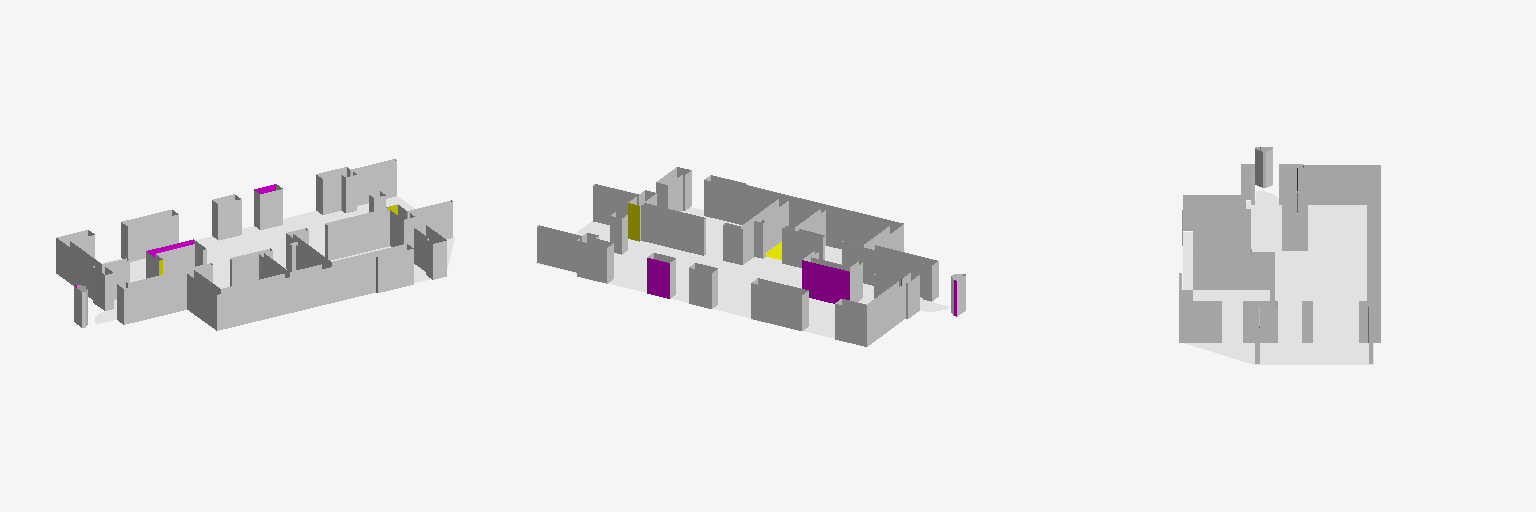
The model's file is floorplan1.obj.
3 renders of one model, left to right at view 1: azimuth 30°, elevation 25°; view 2: azimuth 150°, elevation 25°; view 3: azimuth 270°, elevation 25°, orthographic.
Visible parts, largest first — view 1: Box9Wall111, Room0, Box9Wall109, Box8Wall75, Box0Wall3, Floor, Box3Wall19, Box9Wall113, Box6Wall53, Box9Wall110, Box8Wall81, Box1Wall7 (+4 smaller); view 2: Room0, Box8Wall73, Box9Wall83, Box9Wall105, Box0Wall1, Floor, Box5Wall30, Box9Wall101, Box3Wall21, Box6Wall53, Box6Wall52, Box9Wall97 (+8 smaller); view 3: Room0, Floor, Box9Wall84, Box6Wall48, Box9Wall102, Room3, Box10Wall114, Box5Wall29, Box9Wall94, Box8Wall70, Box9Wall110.
Part boxes in pixels (left/top/right/bottom): Box9Wall111: left=217, top=257, right=375, bottom=330; Room0: left=114, top=211, right=348, bottom=309; Box9Wall109: left=124, top=274, right=186, bottom=324; Box8Wall75: left=328, top=210, right=389, bottom=260; Box0Wall3: left=128, top=214, right=178, bottom=261; Floor: left=94, top=196, right=454, bottom=323; Box3Wall19: left=353, top=160, right=396, bottom=205; Box9Wall113: left=378, top=249, right=413, bottom=292; Box6Wall53: left=56, top=238, right=94, bottom=299; Box9Wall110: left=187, top=274, right=216, bottom=330; Box8Wall81: left=410, top=202, right=452, bottom=239; Box1Wall7: left=218, top=199, right=241, bottom=240; Room0: left=614, top=241, right=922, bottom=331; Box8Wall73: left=641, top=205, right=703, bottom=255; Box9Wall83: left=704, top=180, right=778, bottom=224; Box9Wall105: left=842, top=242, right=923, bottom=297; Box0Wall1: left=751, top=283, right=801, bottom=330; Floor: left=536, top=207, right=949, bottom=338; Box5Wall30: left=802, top=260, right=849, bottom=303; Box9Wall101: left=826, top=210, right=889, bottom=248; Box3Wall21: left=537, top=227, right=579, bottom=272; Box6Wall53: left=867, top=283, right=904, bottom=346; Box6Wall52: left=835, top=304, right=866, bottom=346; Box9Wall97: left=782, top=228, right=822, bottom=267; Room0: left=1252, top=205, right=1366, bottom=336; Floor: left=1183, top=191, right=1373, bottom=364; Box9Wall84: left=1193, top=254, right=1269, bottom=289; Box6Wall48: left=1303, top=168, right=1366, bottom=204; Box9Wall102: left=1193, top=199, right=1245, bottom=230; Room3: left=1193, top=290, right=1269, bottom=336; Box10Wall114: left=1179, top=307, right=1221, bottom=342; Box5Wall29: left=1282, top=215, right=1307, bottom=250; Box9Wall94: left=1193, top=233, right=1245, bottom=248; Box8Wall70: left=1260, top=307, right=1277, bottom=342; Box9Wall110: left=1183, top=195, right=1240, bottom=230.
Size of the model in its own units: 10.81 by 1 by 5.06.